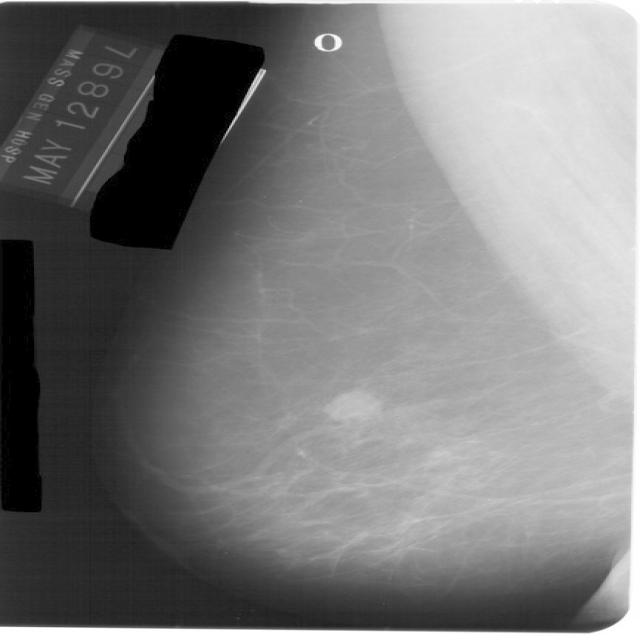tumour: (325, 389, 380, 422)
